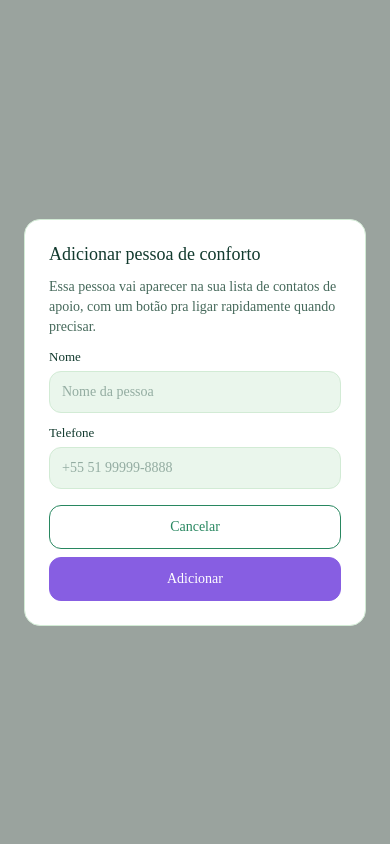
Test: AddContactModal › mostra erro de telefone inválido e limpa ao digitar de novo
Step 1. Type "Ana" into the field with placeholder "Nome da pessoa" → coordinates (195, 392), box x1=49 y1=370 x2=341 y2=412
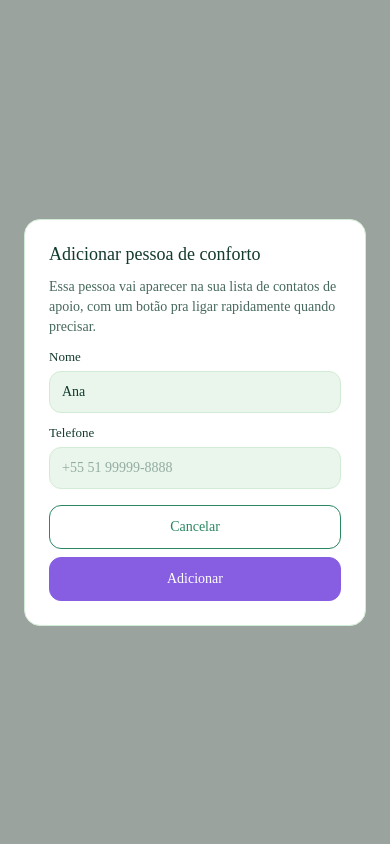
Step 2. Type "5199" into the field with placeholder "+55 51 99999-8888" → coordinates (195, 468), box x1=49 y1=446 x2=341 y2=488
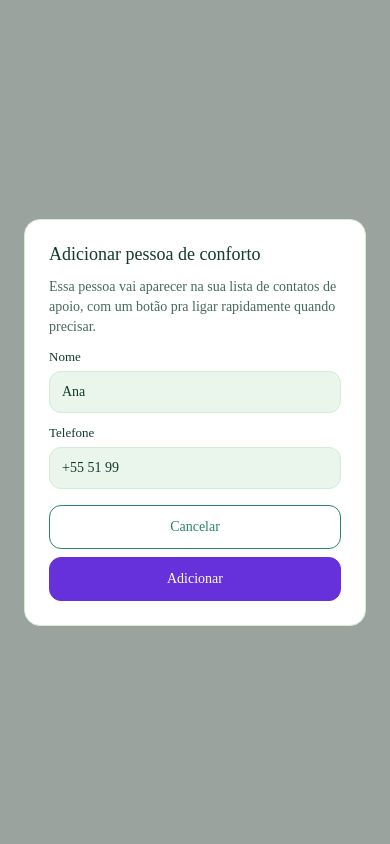
Step 3. Click the button "Adicionar" → coordinates (195, 578), box x1=49 y1=556 x2=341 y2=600
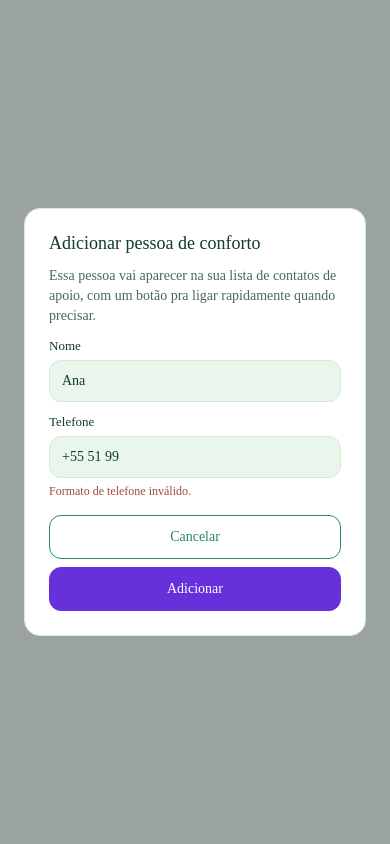
Check: the message reads "Formato de telefone inválido.", box x1=49 y1=484 x2=191 y2=498
Step 4. Replace the text in the 2nd field with placeholder "+55 51 99999-8888" with "51999" → coordinates (195, 457), box x1=49 y1=436 x2=341 y2=478
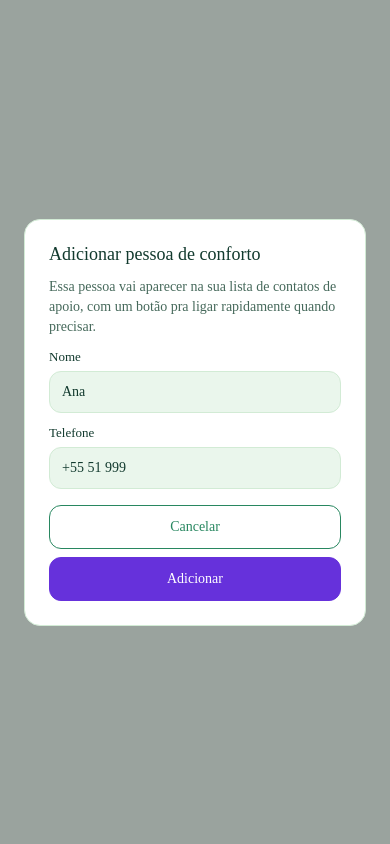
Check: the message "Formato de telefone inválido." is gone
